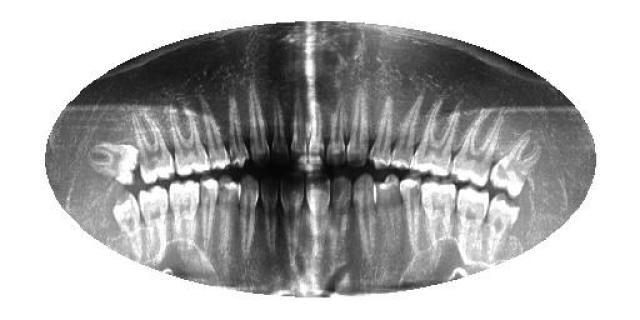Restorations: (86, 142, 139, 188)
